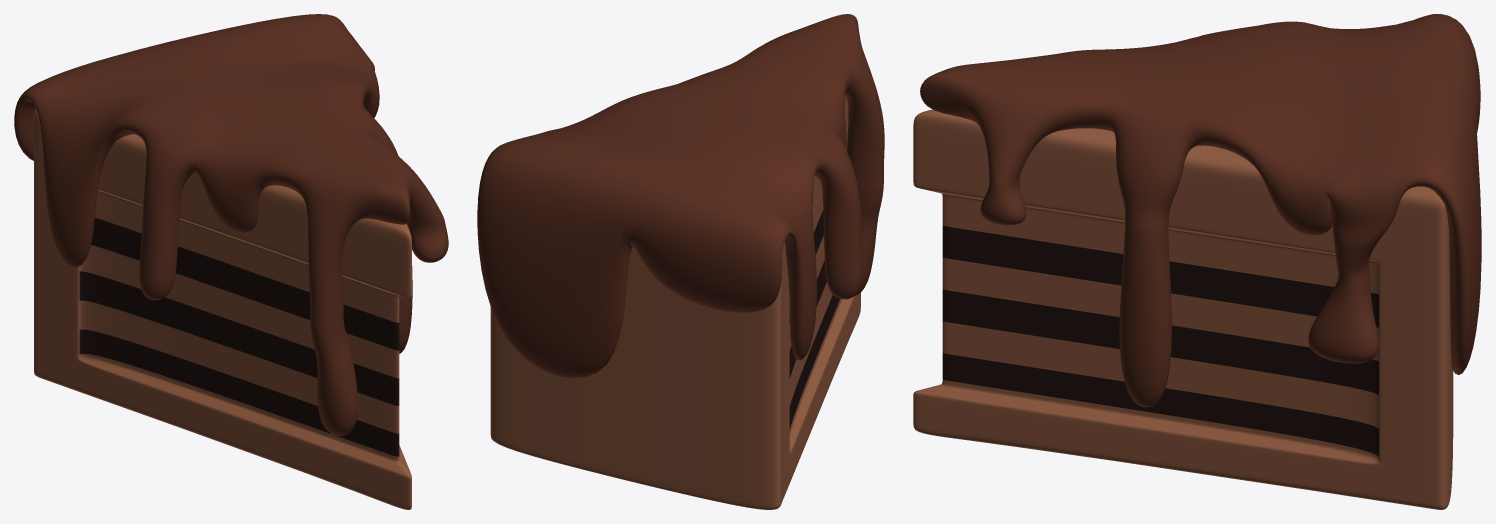
File: ChocolateCake(Ver1).fbx
3 renders of one model, left to right at view 1: azimuth 30°, elevation 25°; view 2: azimuth 150°, elevation 25°; view 3: azimuth 270°, elevation 25°, orthographic. The views are drawn at different scales.
Parts seen in each view (by area): view 1: Cube1; view 2: Cube1; view 3: Cube1.
Boxes of the visible parts, x1,y1,x2,y2 form: Cube1: (14,14,448,509); Cube1: (477,14,884,509); Cube1: (913,14,1481,509).
Bounding box in the file's own units: 223 × 215 × 303.
